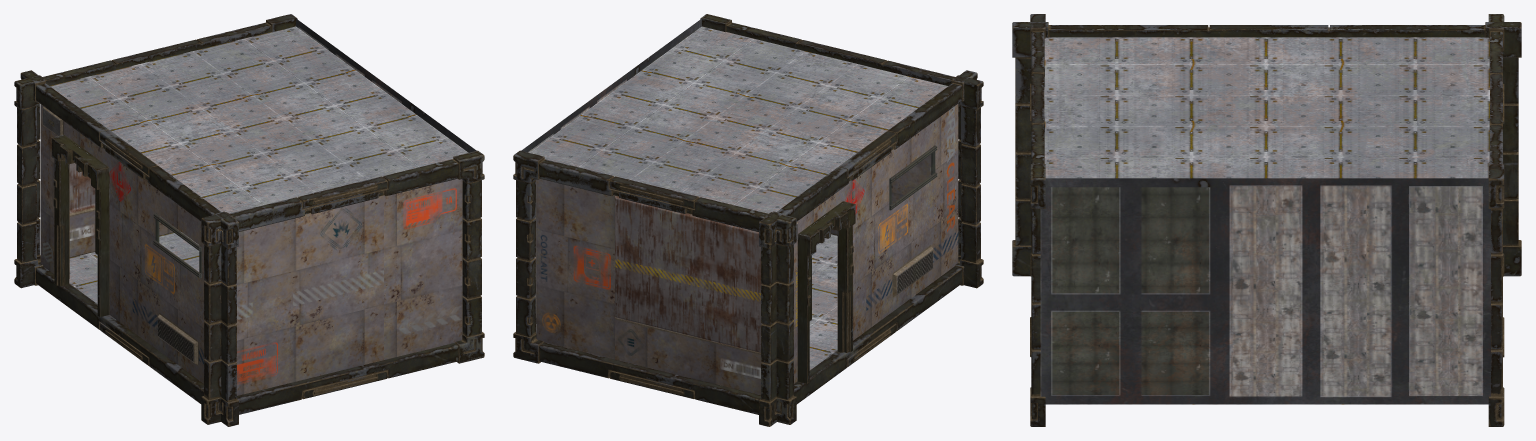
File: SM_Smaller_Door_Window_Unit.fbx
3 renders of one model, left to right at view 1: azimuth 30°, elevation 25°; view 2: azimuth 150°, elevation 25°; view 3: azimuth 270°, elevation 25°, orthographic. The views are drawn at different scales.
Visible parts, largest first — view 1: SM_Smaller_Door_Window_Unit_LOD0; view 2: SM_Smaller_Door_Window_Unit_LOD0; view 3: SM_Smaller_Door_Window_Unit_LOD0.
Boxes of the visible parts, bbox=[...] form: SM_Smaller_Door_Window_Unit_LOD0: bbox=[14, 14, 484, 426]; SM_Smaller_Door_Window_Unit_LOD0: bbox=[513, 14, 983, 426]; SM_Smaller_Door_Window_Unit_LOD0: bbox=[1012, 14, 1521, 426].
Size of the model in its own units: 418 by 543 by 292.
5 materials, 5 textured.
